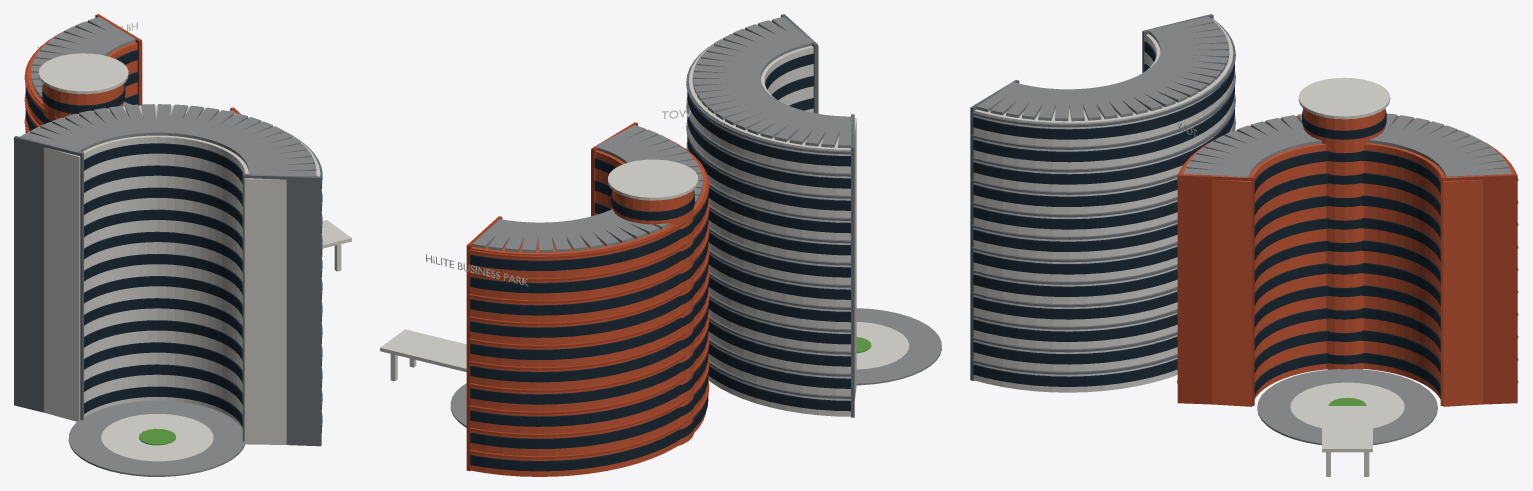
File: hilitebp.glb
The picture shows the model from 3 angles, left to right: view 1: azimuth 30°, elevation 25°; view 2: azimuth 150°, elevation 25°; view 3: azimuth 270°, elevation 25°; orthographic projection.
Visible parts, largest first — view 1: hilitebp; view 2: hilitebp; view 3: hilitebp.
Part boxes in pixels (x1,y1,x2,y2): hilitebp: (14,14,351,476); hilitebp: (380,14,941,476); hilitebp: (970,14,1518,476).
Bounding box in the file's own units: 73.2 × 47.3 × 86.25.
